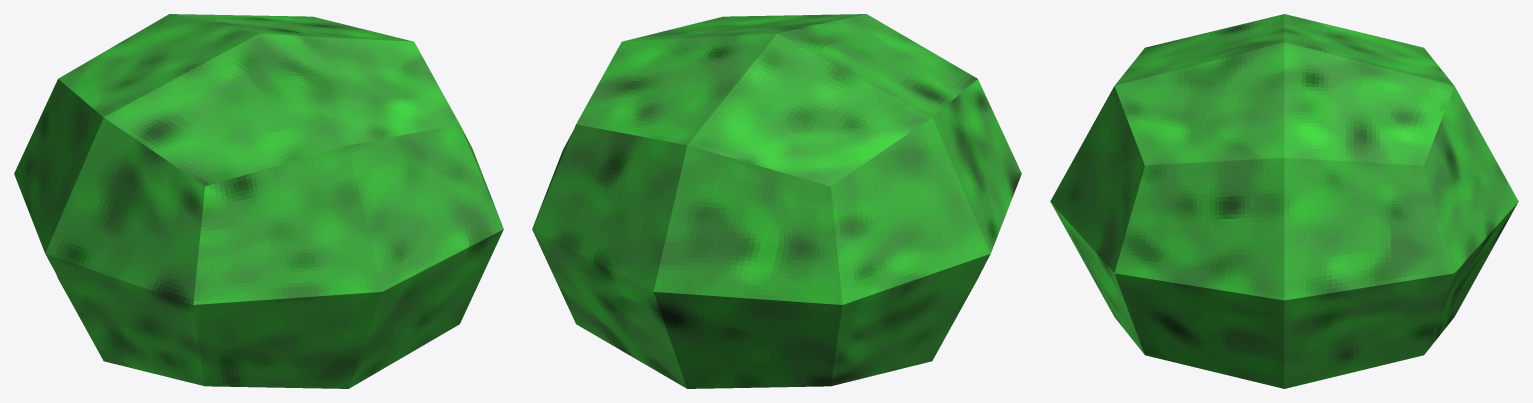
Rendered from slime.glb.
The picture shows the model from 3 angles, left to right: view 1: azimuth 30°, elevation 25°; view 2: azimuth 150°, elevation 25°; view 3: azimuth 270°, elevation 25°; orthographic projection. The views are drawn at different scales.
Visible parts, largest first — view 1: Cube; view 2: Cube; view 3: Cube.
Boxes of the visible parts, x1,y1,x2,y2 form: Cube: (14, 14, 503, 388); Cube: (532, 14, 1021, 388); Cube: (1050, 14, 1518, 388).
Bounding box in the file's own units: 1.68 × 1.26 × 1.68.
Materials: 1 (1 with a texture image).
